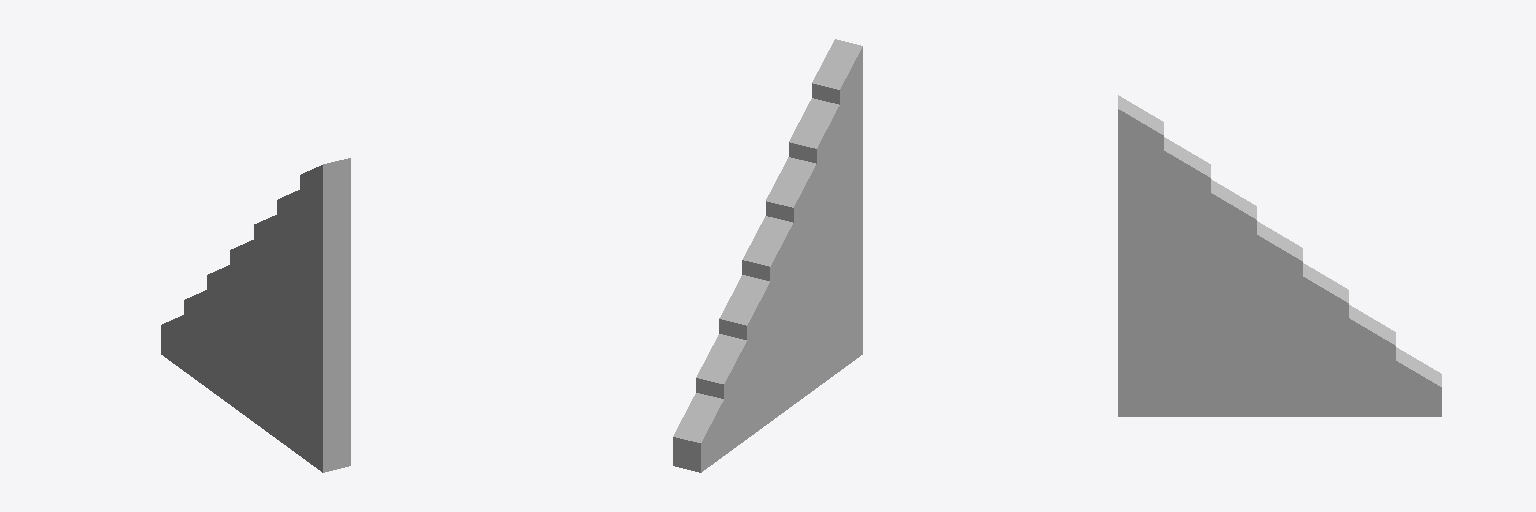
File: Facciata.obj
3 renders of one model, left to right at view 1: azimuth 30°, elevation 25°; view 2: azimuth 150°, elevation 25°; view 3: azimuth 270°, elevation 25°, orthographic.
Visible parts, largest first — view 1: Cube.002; view 2: Cube.002; view 3: Cube.002.
Boxes of the visible parts, box(x1,y1,x2,y2) form: Cube.002: box(161, 158, 350, 472); Cube.002: box(673, 39, 862, 472); Cube.002: box(1118, 95, 1441, 416).
Bounding box in the file's own units: 0.1999 × 2.1 × 2.